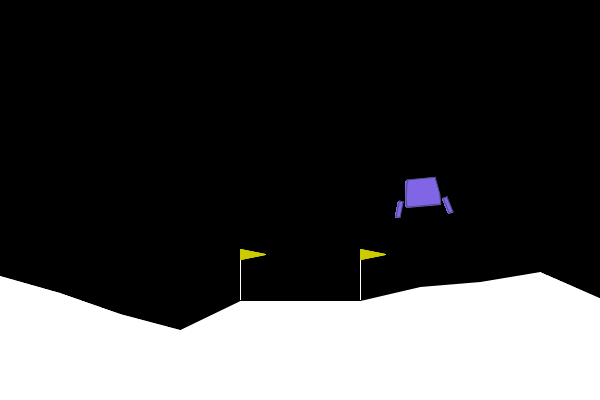lander: (391, 174, 454, 219)
